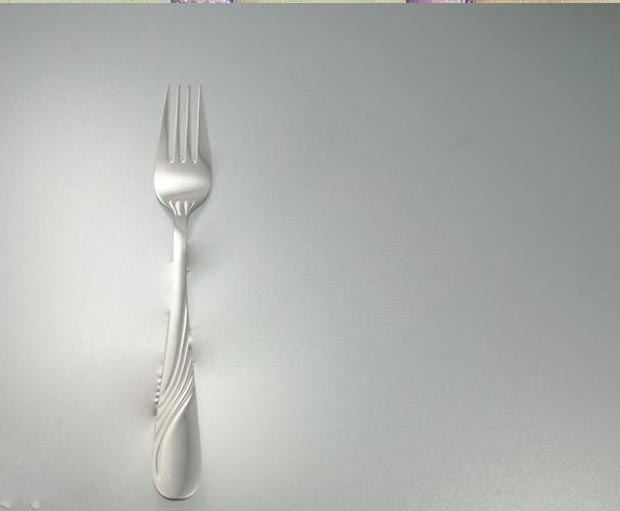Widelec: (150, 83, 220, 220)
